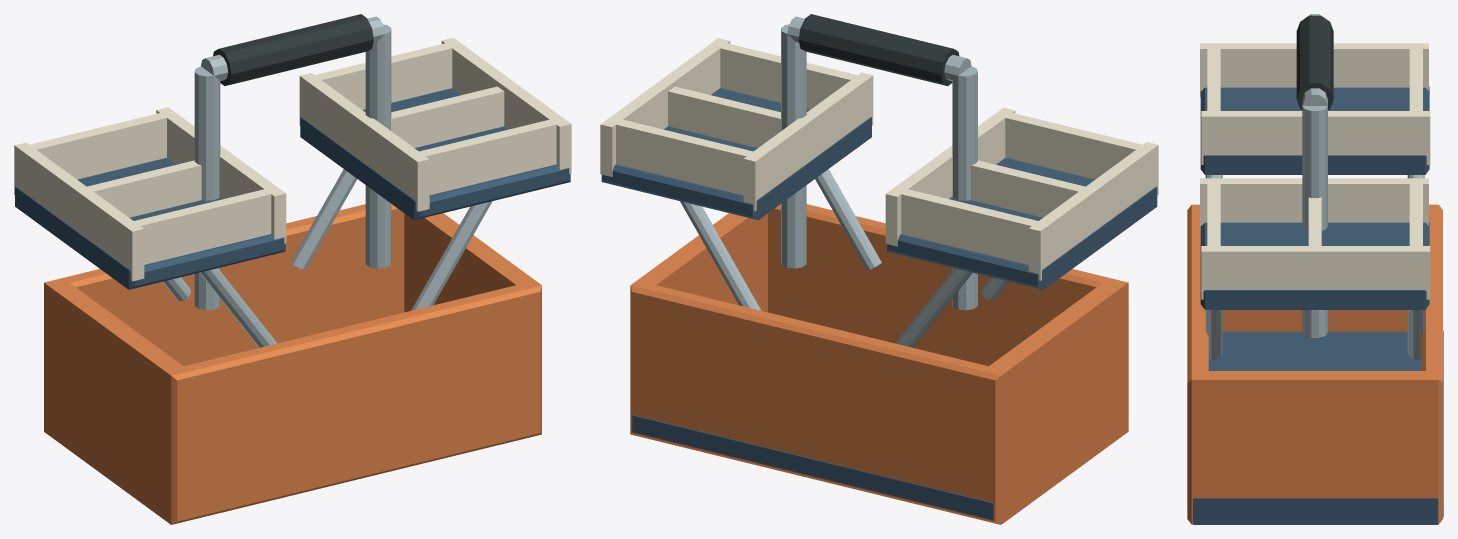
Rendered from harbor-and-tackle-cantilever-tackle-chest-084b2415__19570.glb.
The picture shows the model from 3 angles, left to right: view 1: azimuth 30°, elevation 25°; view 2: azimuth 150°, elevation 25°; view 3: azimuth 270°, elevation 25°; orthographic projection. The views are drawn at different scales.
Parts seen in each view (by area): view 1: orange, ivory, metal, navy, rubber; view 2: orange, ivory, navy, metal, rubber; view 3: orange, ivory, navy, metal, rubber.
Boxes of the visible parts, <box> form: orange: <box>44,204,541,524</box>; ivory: <box>14,37,571,281</box>; metal: <box>163,16,492,347</box>; navy: <box>15,88,570,289</box>; rubber: <box>213,14,373,85</box>; orange: <box>630,204,1128,524</box>; ivory: <box>600,38,1158,280</box>; navy: <box>601,88,1157,520</box>; metal: <box>680,16,1009,347</box>; rubber: <box>798,14,959,86</box>; orange: <box>1187,204,1442,524</box>; ivory: <box>1200,43,1430,299</box>; navy: <box>1193,87,1443,524</box>; metal: <box>1205,14,1424,359</box>; rubber: <box>1296,15,1333,110</box>.
Bounding box in the file's own units: 0.93 × 0.8033 × 0.4812.
